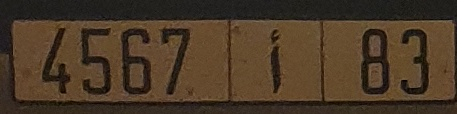3: (399, 27, 431, 96)
4: (40, 27, 72, 94)
5: (80, 25, 113, 95)
6: (120, 27, 153, 95)
7: (160, 27, 192, 96)
8: (359, 27, 391, 96)
a: (265, 27, 285, 94)
